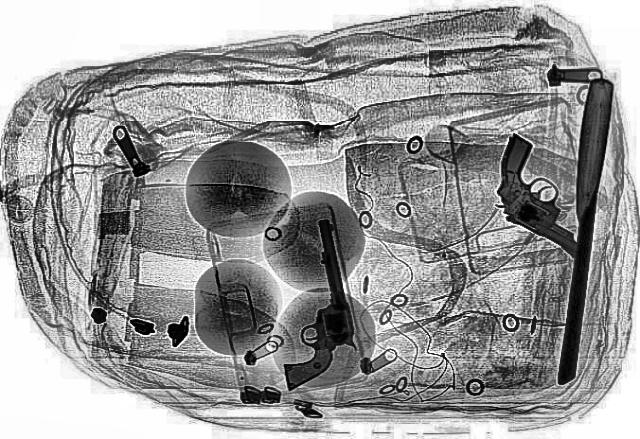Gun: (442, 136, 638, 256), (257, 218, 361, 390)
Knife: (548, 77, 614, 385)
